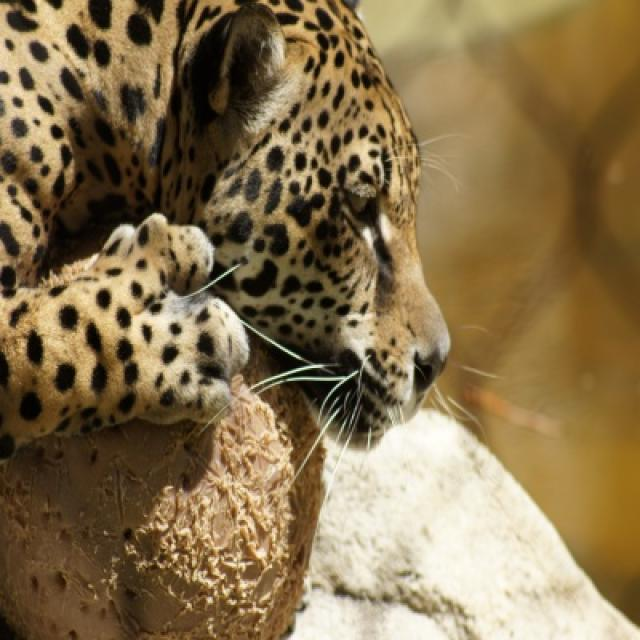Jaguar: (0, 0, 453, 458)
